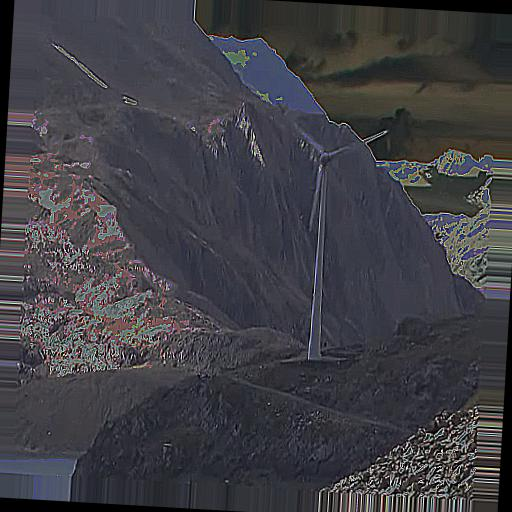wind turbine: (291, 111, 390, 361)
